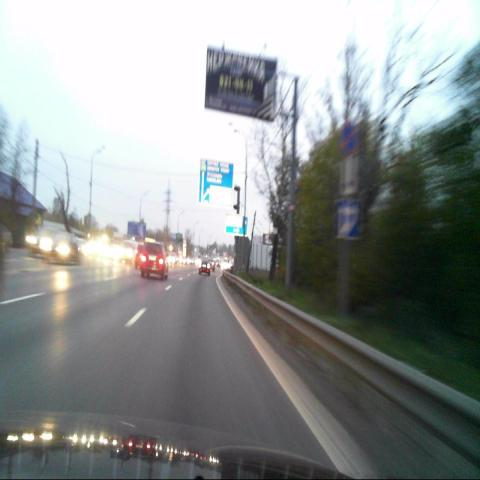5_15_3: (339, 197, 361, 238)
